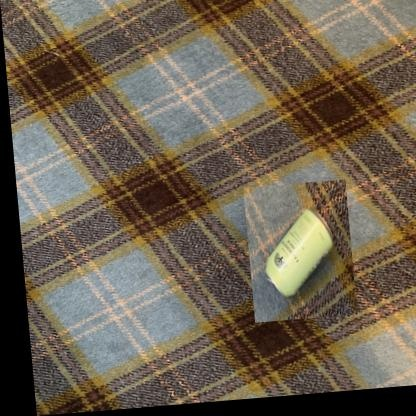trash: (265, 209, 332, 296)
